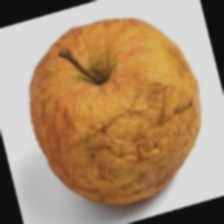apple: (0, 0, 198, 183)
